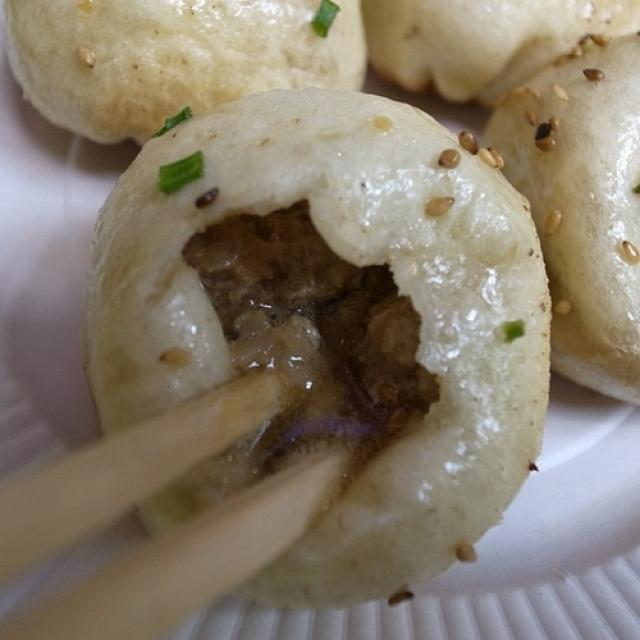带馅早点: (22, 18, 617, 604)
